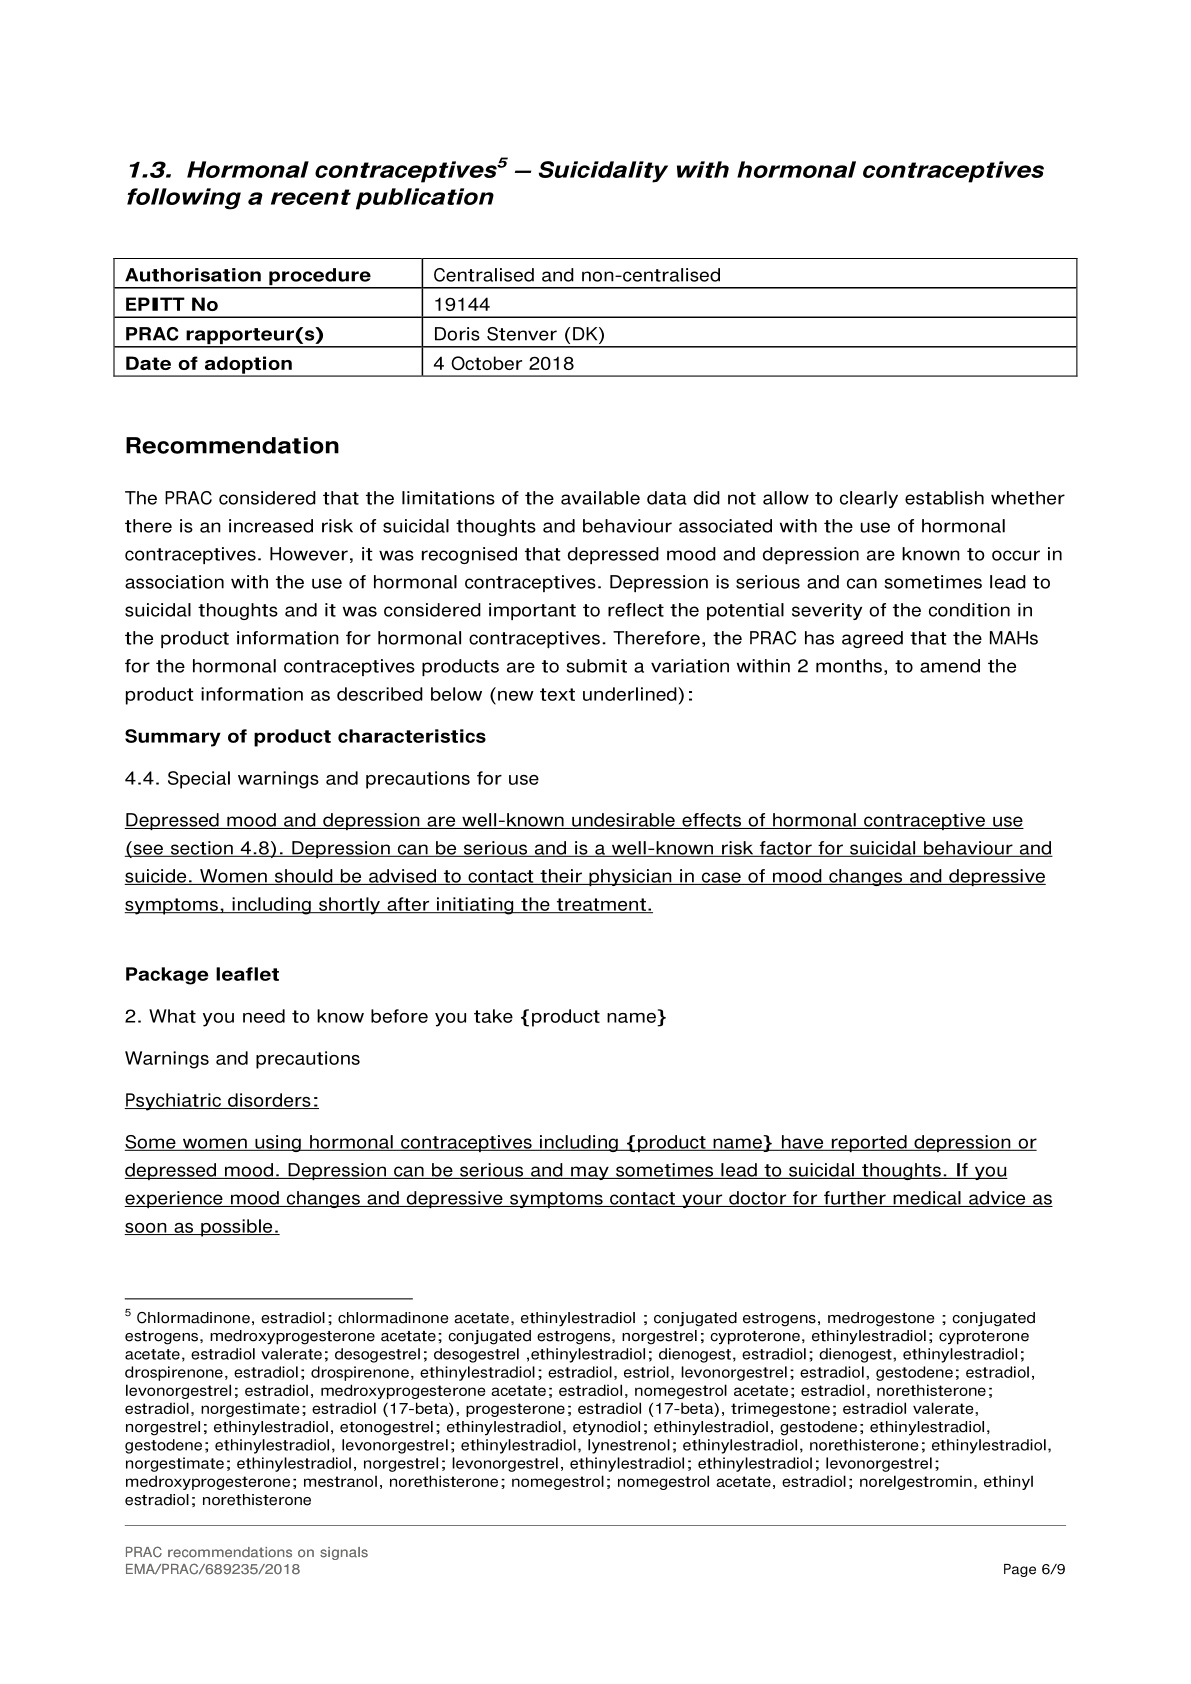full_lined: (112, 256, 1078, 378)
